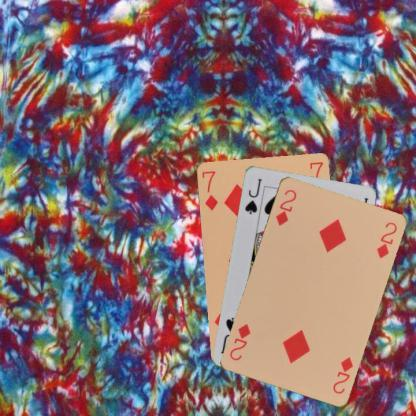2d: (272, 187, 298, 227), (330, 354, 354, 395)
7d: (199, 168, 219, 212)
Js: (242, 176, 264, 215)
